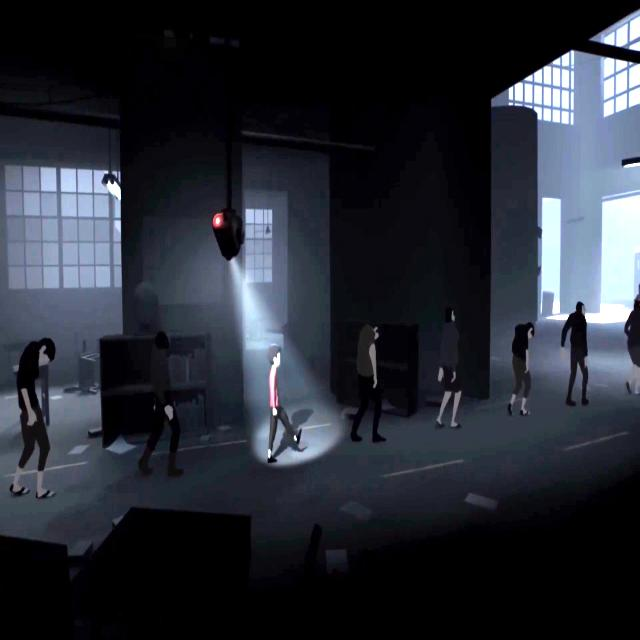boy: (268, 343, 304, 465)
zombie: (10, 336, 56, 503), (140, 333, 182, 478), (354, 322, 385, 445), (435, 308, 463, 430), (564, 300, 589, 406), (510, 323, 536, 415), (624, 301, 640, 394)
